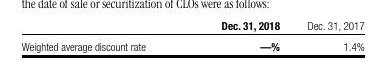table: (0, 0, 382, 79)
